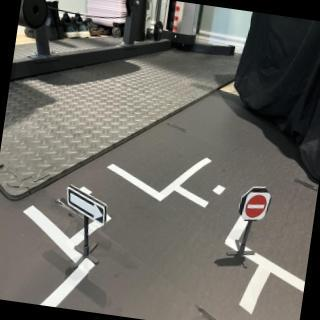sign_noentry: (240, 189, 273, 225)
sign_oneway_right: (64, 184, 112, 229)
